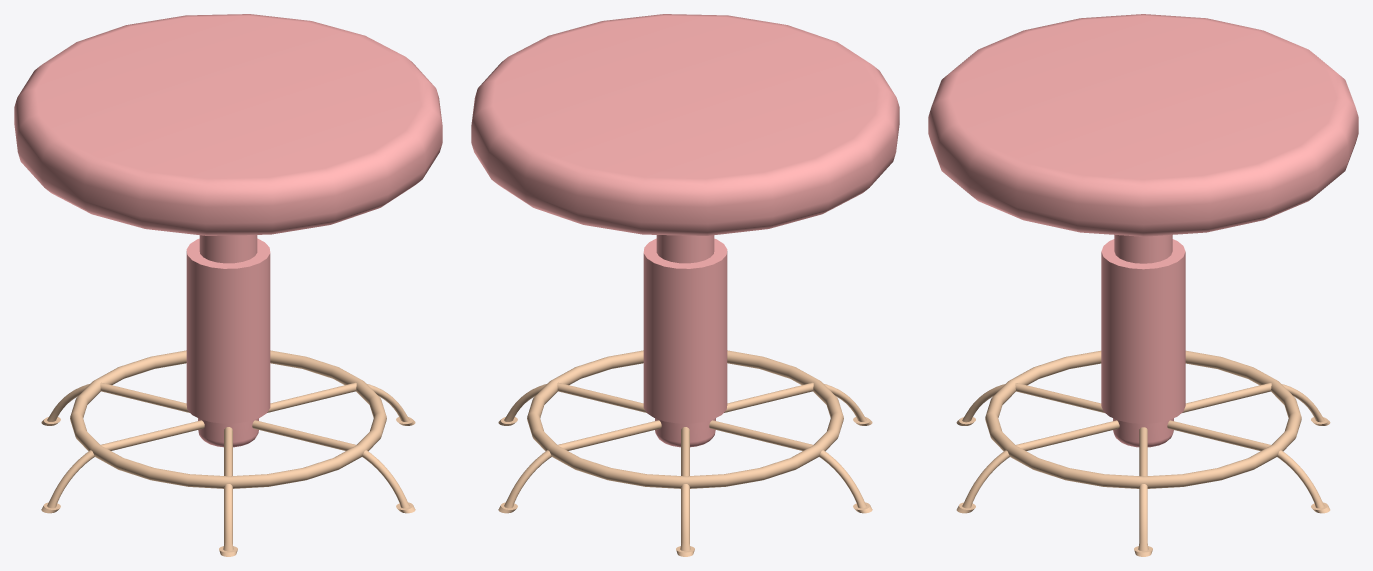
Rendered from Lab_Chair.fbx.
3 views of the same model, side by side, from view 1: azimuth 30°, elevation 25°; view 2: azimuth 150°, elevation 25°; view 3: azimuth 270°, elevation 25° (orthographic).
Visible parts, largest first — view 1: Lab_Chair_Sit, Lab_Chair_Base; view 2: Lab_Chair_Sit, Lab_Chair_Base; view 3: Lab_Chair_Sit, Lab_Chair_Base.
Part boxes in pixels (left/top/right/bottom): Lab_Chair_Sit: left=14, top=14, right=442, bottom=447; Lab_Chair_Base: left=41, top=350, right=415, bottom=556; Lab_Chair_Sit: left=471, top=14, right=899, bottom=447; Lab_Chair_Base: left=498, top=350, right=872, bottom=556; Lab_Chair_Sit: left=928, top=14, right=1358, bottom=447; Lab_Chair_Base: left=956, top=350, right=1330, bottom=556.
Bounding box in the file's own units: 18.99 × 17.95 × 18.99.
